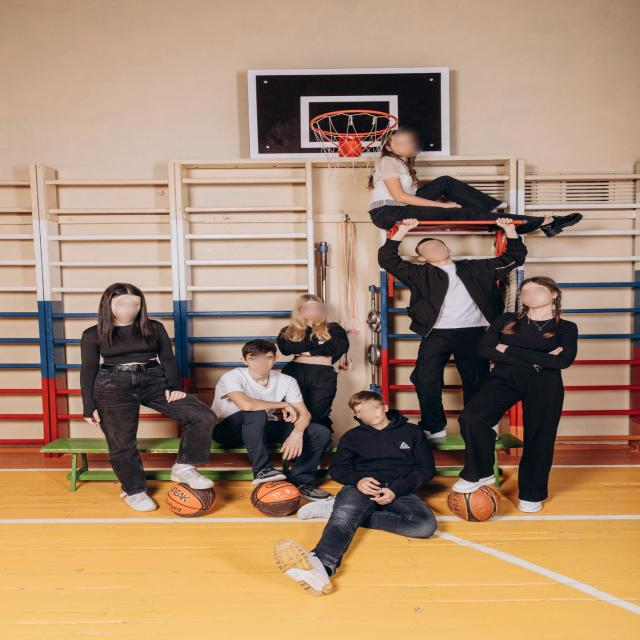Person: (264, 388, 448, 610), (449, 272, 606, 522), (72, 277, 222, 533), (369, 221, 501, 416), (200, 334, 346, 509), (356, 126, 586, 229), (272, 292, 358, 414)
